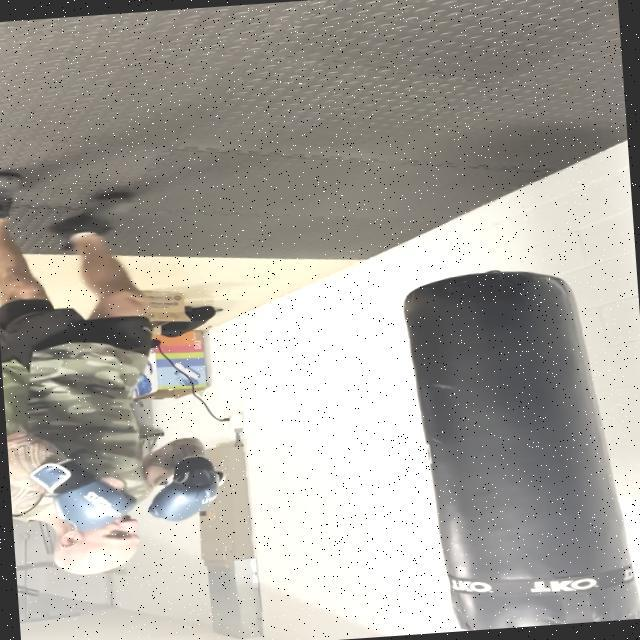bag: (413, 259, 616, 632)
no punch: (7, 410, 256, 590)
